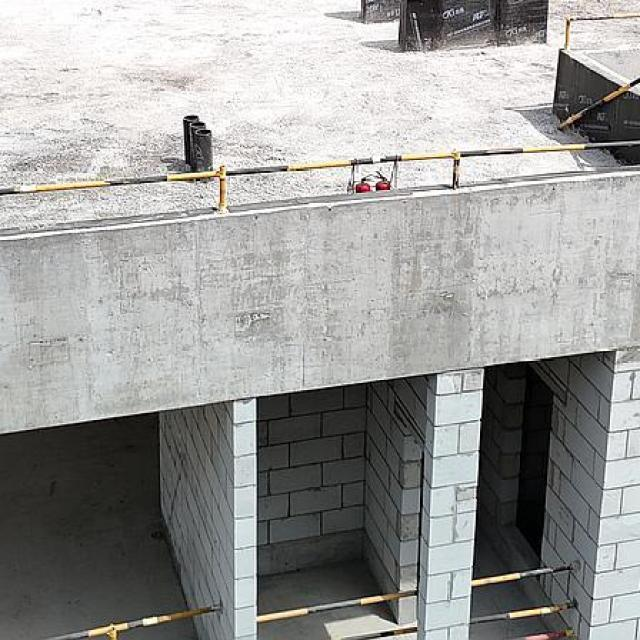edge_guardrail: (0, 141, 640, 209), (469, 560, 581, 640), (256, 590, 418, 640), (44, 604, 217, 640), (555, 76, 640, 134), (564, 14, 640, 51)
